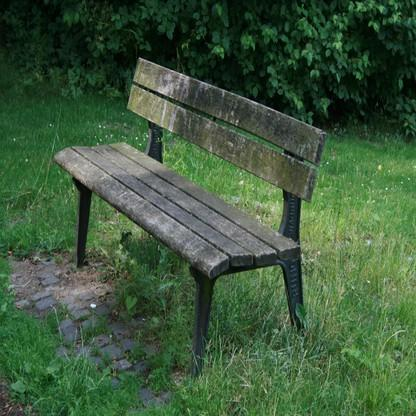obstacle: (44, 45, 344, 363)
